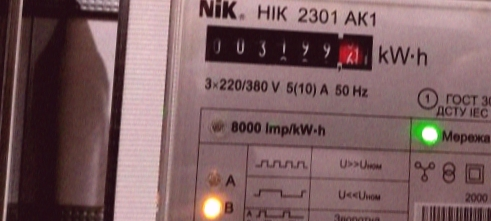0: (235, 37, 248, 56), (212, 36, 223, 55)
1: (280, 37, 290, 56)
3: (257, 38, 269, 59)
6: (345, 50, 356, 65)
9: (300, 38, 312, 58), (322, 41, 334, 60)
screen: (197, 14, 383, 82)
